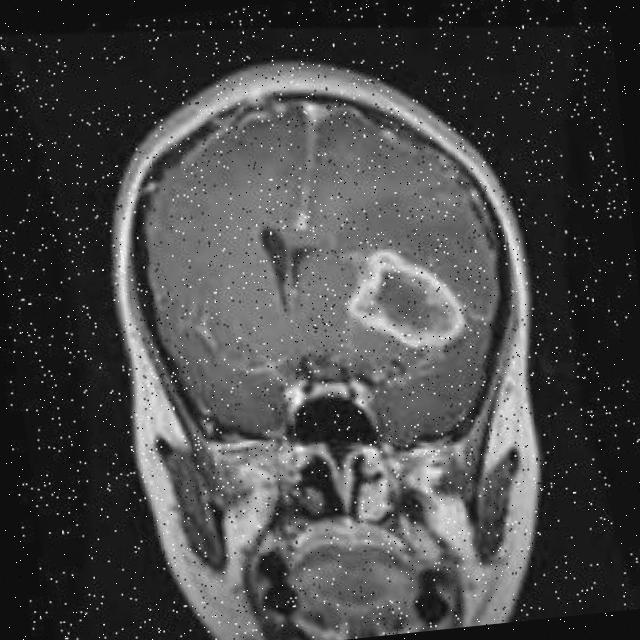LMCI: (284, 207, 486, 378)
